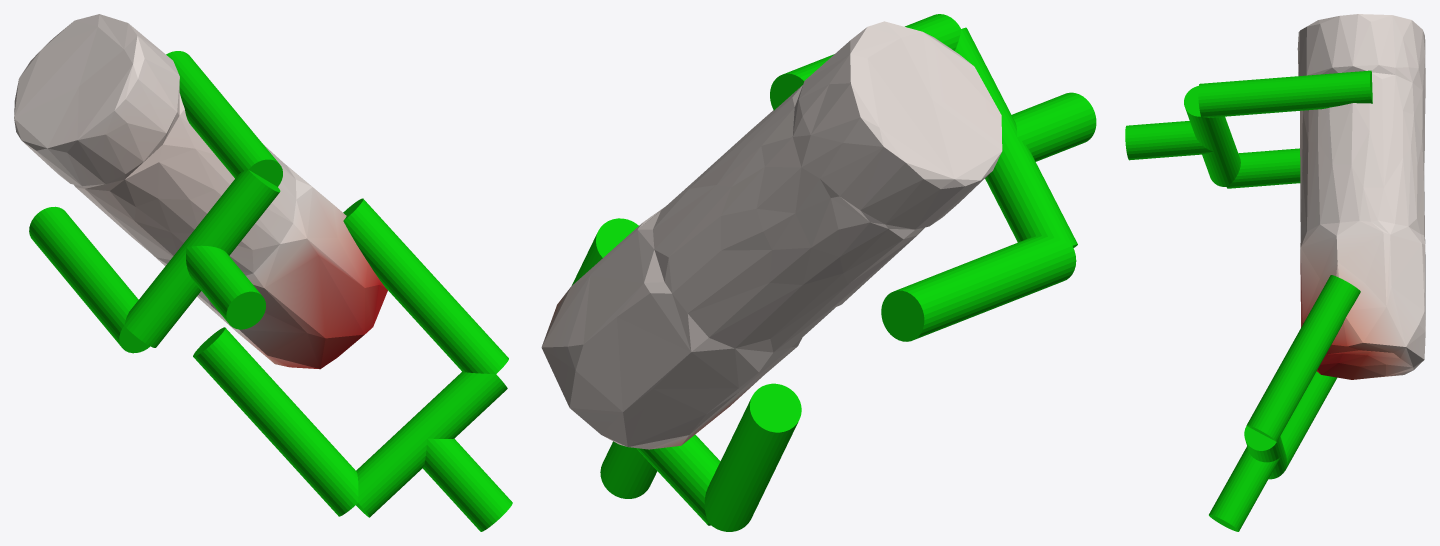
The model's file is round_000_trial_000.obj.
The picture shows the model from 3 angles, left to right: view 1: azimuth 30°, elevation 25°; view 2: azimuth 150°, elevation 25°; view 3: azimuth 270°, elevation 25°; orthographic projection. The views are drawn at different scales.
Parts seen in each view (by area): view 1: geometry_0, geometry_1, geometry_2; view 2: geometry_0, geometry_2, geometry_1; view 3: geometry_0, geometry_2, geometry_1.
Part boxes in pixels (x1=…): geometry_0: x1=14, y1=14, x2=387, y2=369; geometry_1: x1=193, y1=198, x2=512, y2=531; geometry_2: x1=29, y1=51, x2=282, y2=353; geometry_0: x1=541, y1=21, x2=1002, y2=449; geometry_2: x1=770, y1=14, x2=1096, y2=341; geometry_1: x1=571, y1=218, x2=801, y2=531; geometry_0: x1=1297, y1=14, x2=1425, y2=379; geometry_2: x1=1125, y1=70, x2=1372, y2=188; geometry_1: x1=1209, y1=275, x2=1360, y2=531.
Bounding box in the file's own units: 0.1112 × 0.1301 × 0.0865.
